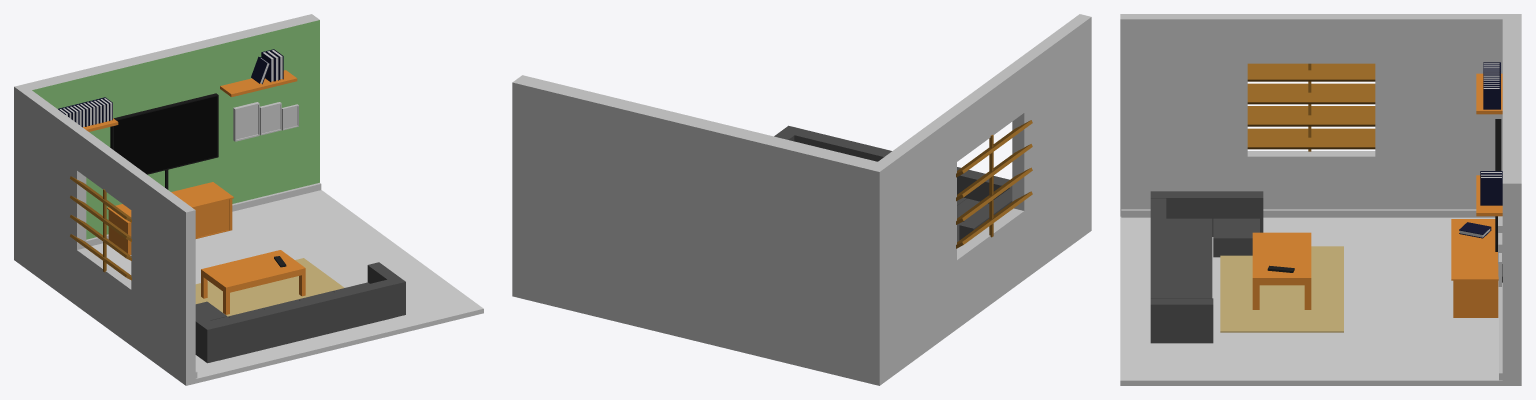
The model's file is myfirstscene.obj.
3 renders of one model, left to right at view 1: azimuth 30°, elevation 25°; view 2: azimuth 150°, elevation 25°; view 3: azimuth 270°, elevation 25°, orthographic. The views are drawn at different scales.
Parts seen in each view (by area): view 1: Cube_Cube.002, Cube.005_Cube.007, TV_Cube.011, Cube.003_Cube.005, Cube.002_Cube.004, Cube.010_Cube.013, Cube.018_Cube.021, Cube.013_Cube.016, Cube.006_Cube.008, Cube.015_Cube.018, Cube.004_Cube.006, Cube.001_Cube.003 (+5 smaller); view 2: Cube_Cube.002, Cube.018_Cube.021, Cube.005_Cube.007, Cube.006_Cube.008; view 3: Cube_Cube.002, Cube.018_Cube.021, Cube.003_Cube.005, Cube.010_Cube.013, Cube.007_Cube.009, Cube.002_Cube.004, Cube.006_Cube.008, Cube.004_Cube.006, Cube.001_Cube.003, Cube.005_Cube.007, Cube.008_Cube.010, Cube.013_Cube.016 (+5 smaller).
Part boxes in pixels (x1,y1,x2,y2): Cube_Cube.002: (14, 14, 483, 385); Cube.005_Cube.007: (213, 279, 394, 360); TV_Cube.011: (110, 93, 218, 174); Cube.003_Cube.005: (195, 258, 344, 316); Cube.002_Cube.004: (201, 250, 305, 314); Cube.010_Cube.013: (107, 182, 233, 254); Cube.018_Cube.021: (70, 176, 131, 280); Cube.013_Cube.016: (58, 97, 112, 127); Cube.006_Cube.008: (195, 310, 218, 363); Cube.015_Cube.018: (233, 102, 259, 141); Cube.004_Cube.006: (367, 262, 405, 317); Cube.001_Cube.003: (86, 182, 321, 378); Cube_Cube.002: (512, 14, 1091, 385); Cube.018_Cube.021: (956, 120, 1032, 248); Cube.005_Cube.007: (794, 129, 1012, 203); Cube.006_Cube.008: (959, 187, 1012, 240); Cube_Cube.002: (1120, 14, 1521, 385); Cube.018_Cube.021: (1247, 63, 1375, 149); Cube.003_Cube.005: (1220, 246, 1343, 332); Cube.010_Cube.013: (1451, 219, 1498, 317); Cube.007_Cube.009: (1166, 218, 1212, 298); Cube.002_Cube.004: (1252, 232, 1311, 309); Cube.006_Cube.008: (1150, 191, 1263, 236); Cube.004_Cube.006: (1150, 298, 1213, 343); Cube.001_Cube.003: (1121, 209, 1502, 380); Cube.005_Cube.007: (1150, 198, 1166, 298); Cube.008_Cube.010: (1213, 218, 1259, 257); Cube.013_Cube.016: (1483, 62, 1500, 109).
Size of the model in its own units: 13.08 by 7.13 by 12.81.
